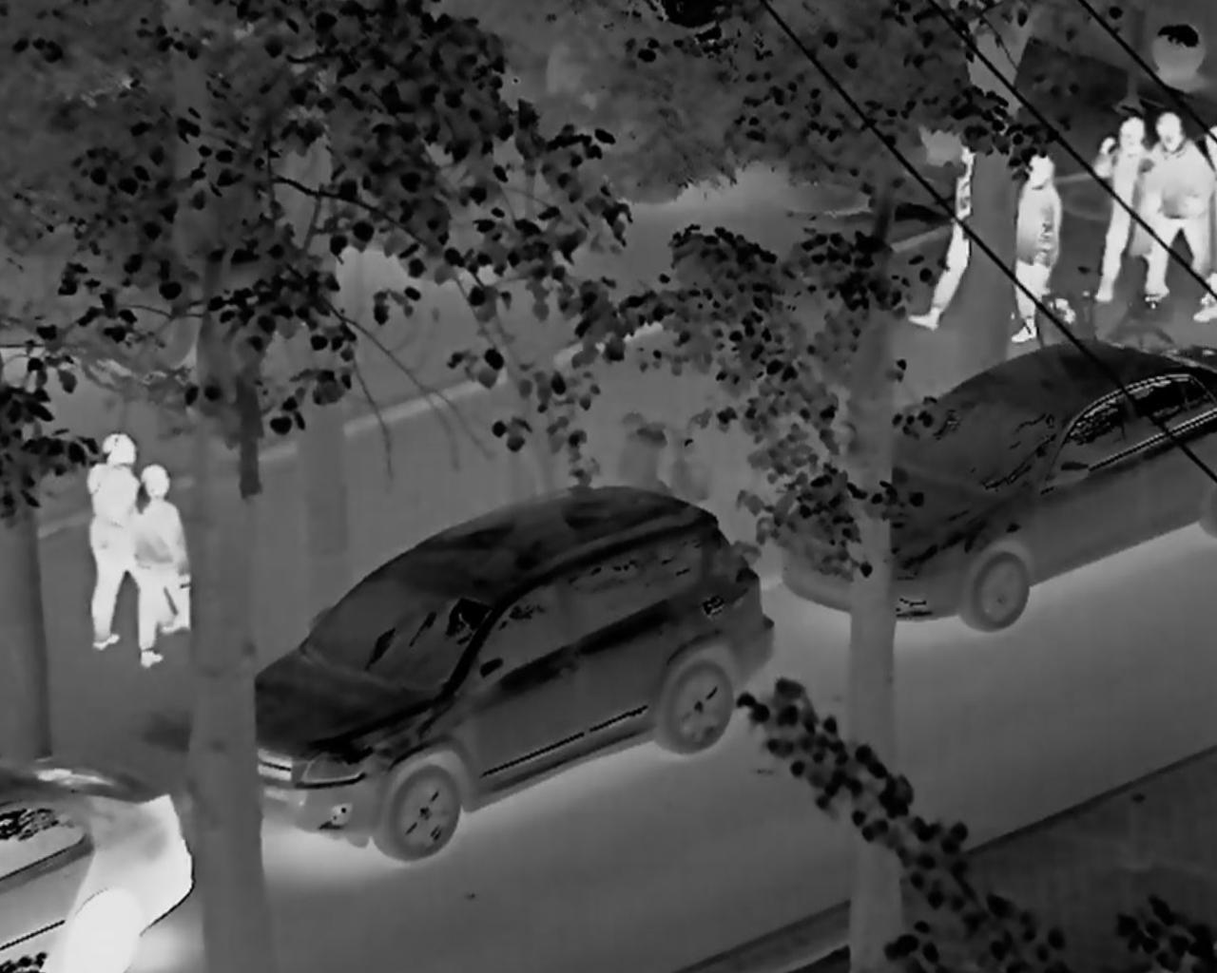person: (915, 128, 995, 356), (1146, 114, 1215, 313), (127, 461, 192, 668), (91, 434, 147, 666), (1097, 101, 1152, 318), (1013, 153, 1071, 334)
